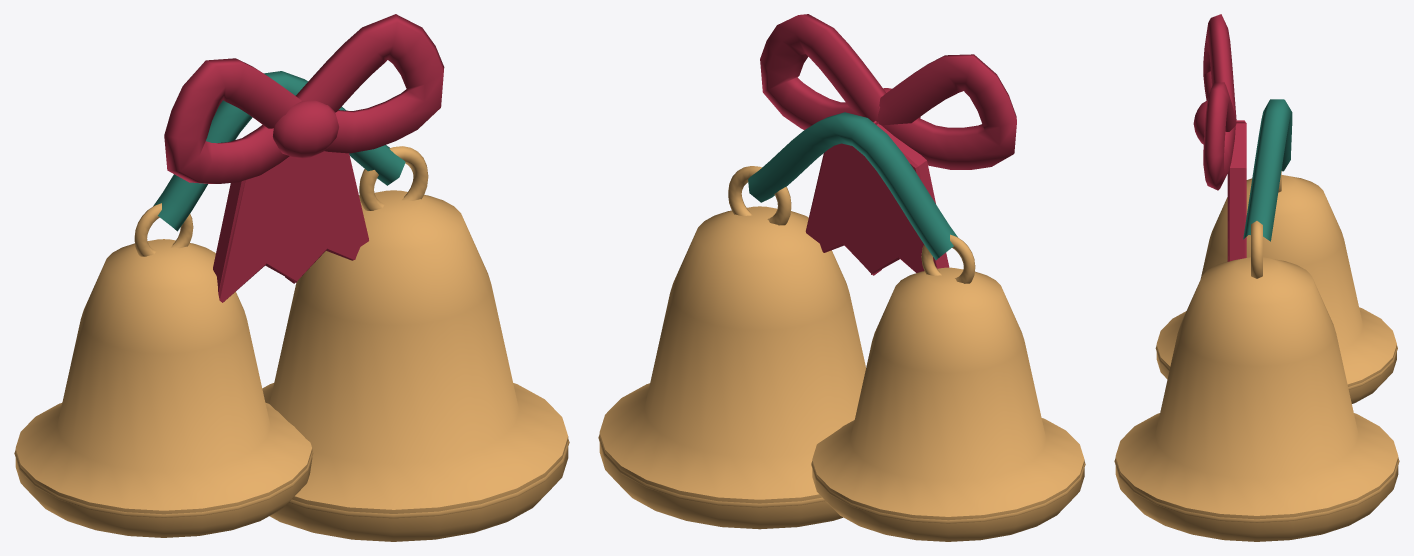
Rendered from storybook-christmas-market-twin-christmas-bells-c8e7657b__19709.glb.
3 views of the same model, side by side, from view 1: azimuth 30°, elevation 25°; view 2: azimuth 150°, elevation 25°; view 3: azimuth 270°, elevation 25° (orthographic). The views are drawn at different scales.
Parts seen in each view (by area): view 1: twin-christmas-bells; view 2: twin-christmas-bells; view 3: twin-christmas-bells.
Part boxes in pixels (x1,y1,x2,y2): twin-christmas-bells: (14,14,569,541); twin-christmas-bells: (598,14,1085,541); twin-christmas-bells: (1114,14,1399,541).
Size of the model in its own units: 0.8262 by 0.7904 by 0.504.
